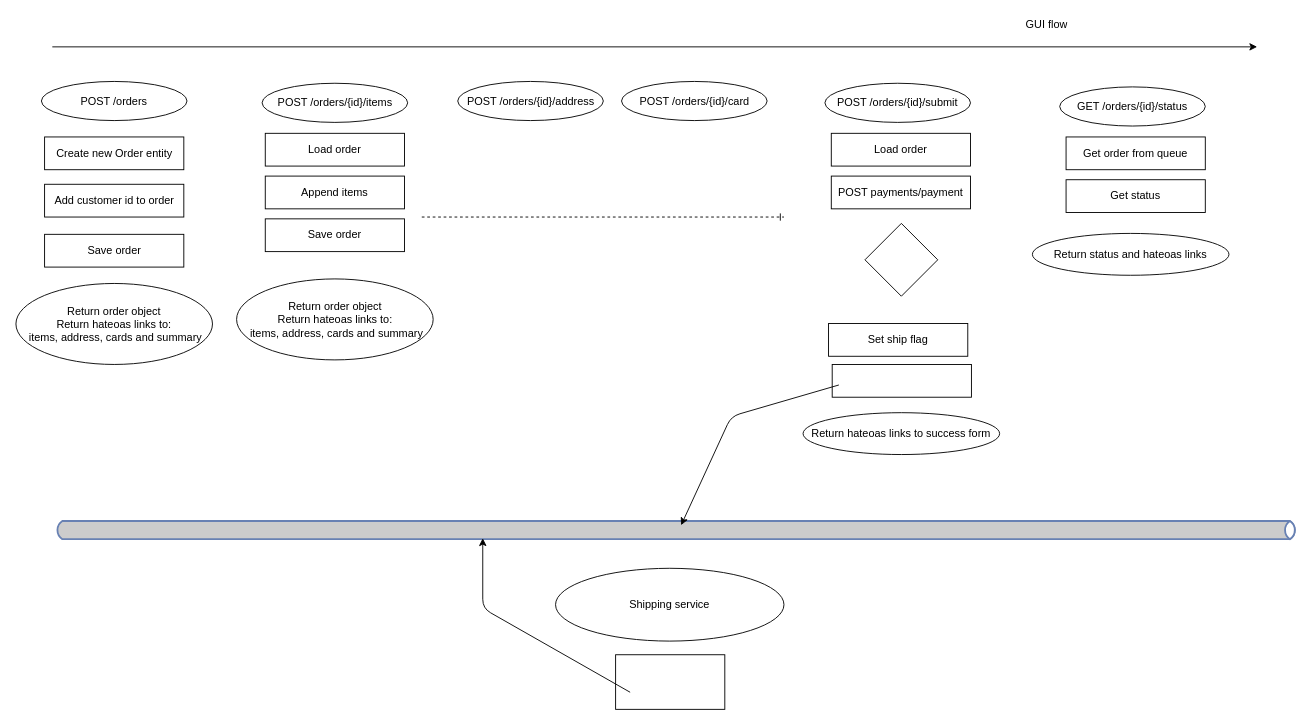
The diagram is 1314 pixels wide and 725 high, and some of its shapes have lost their labels. Each missing label, with the centre of its shape:
"Get new order with status SHIPPING" goes at (670,681).
"if authorised" goes at (901,259).
"Push to queue" goes at (901,380).
